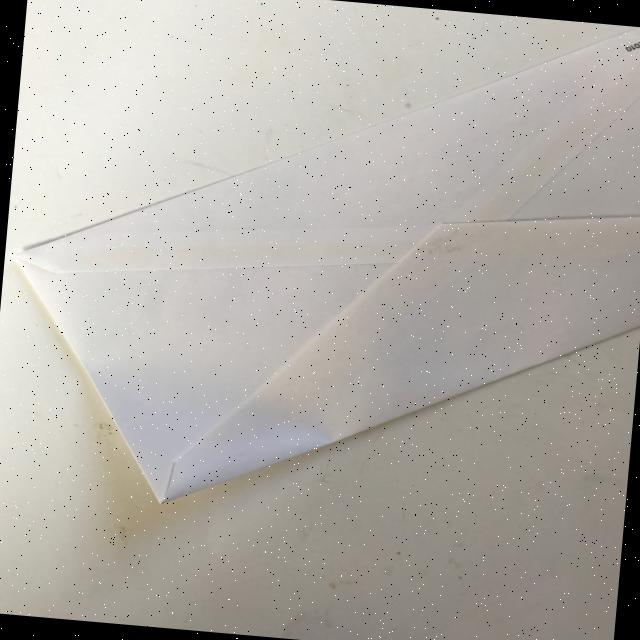paper: (0, 0, 640, 545)
